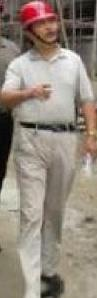boots: (40, 274, 64, 298), (0, 237, 7, 252)
hard-hat: (17, 0, 57, 30)
